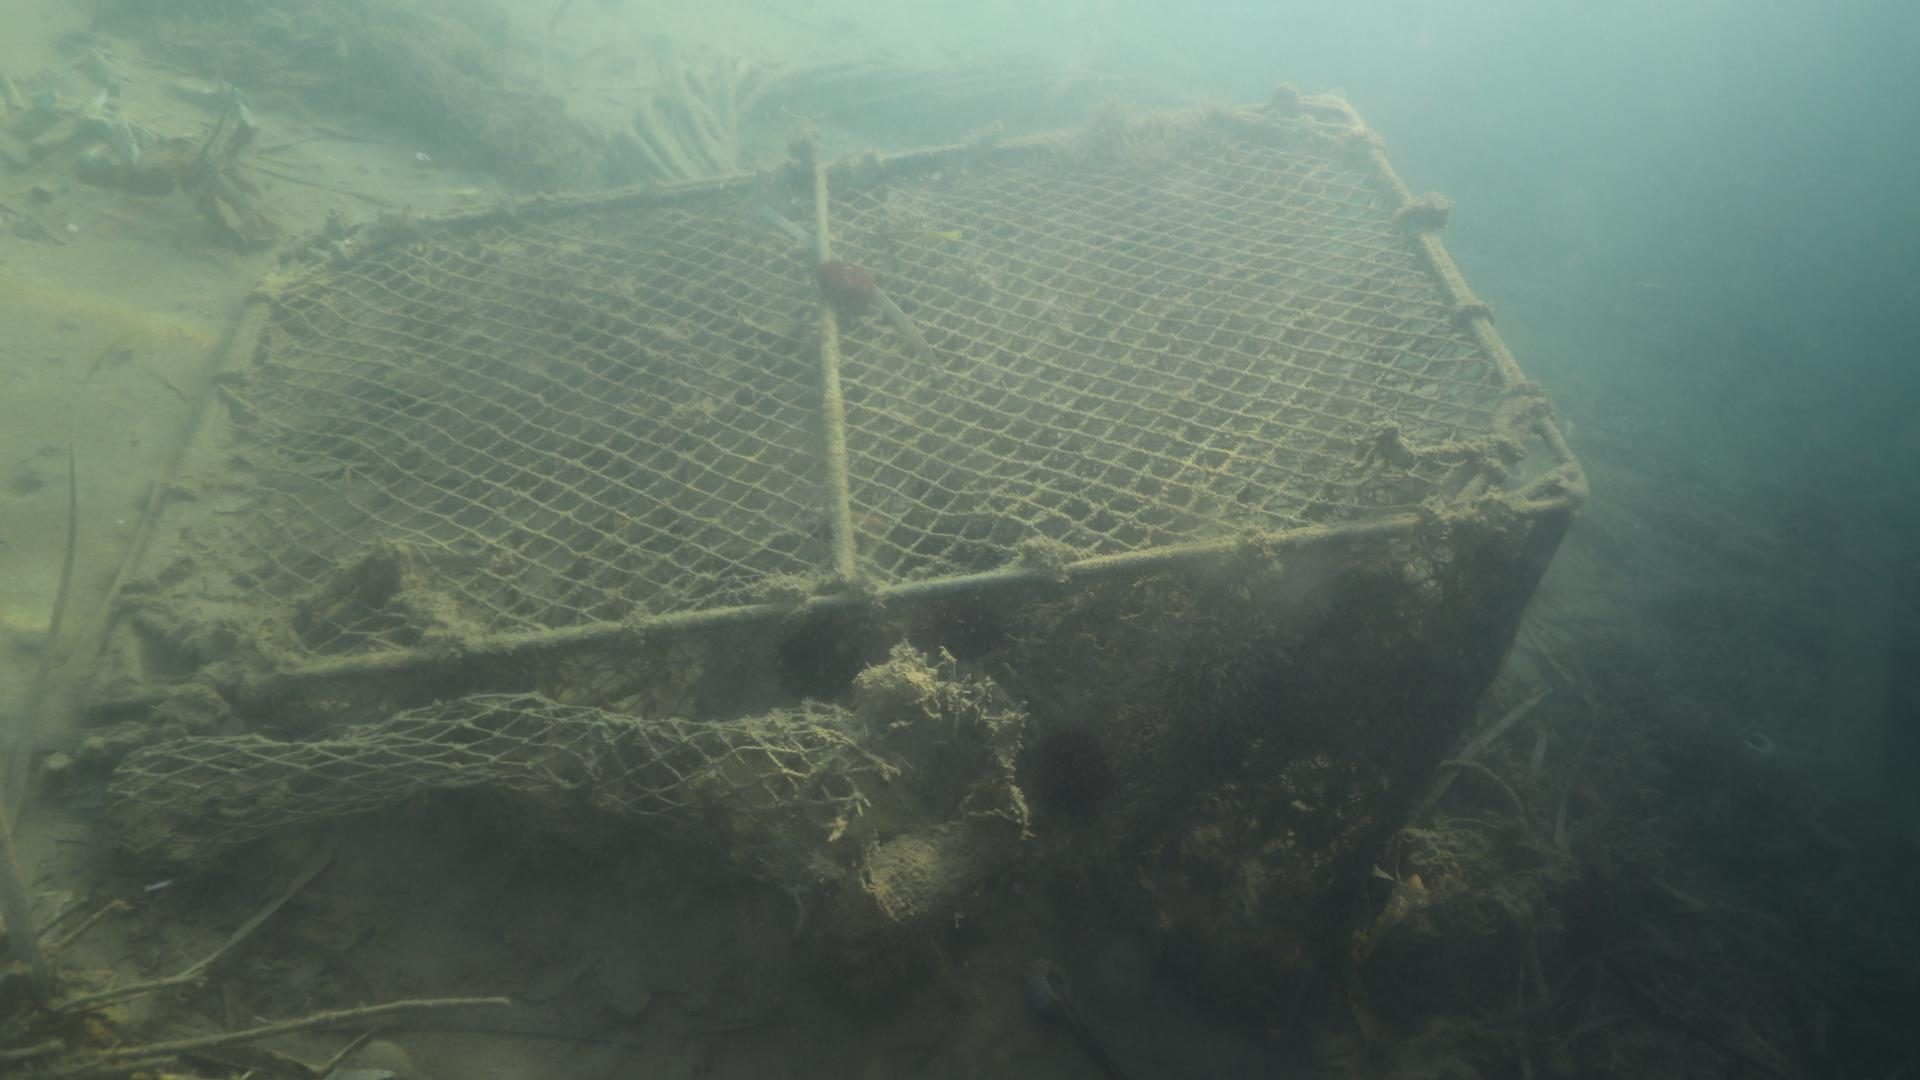bundle of ropes: (618, 49, 1062, 185)
rectangular fish trap: (62, 84, 1592, 980)
